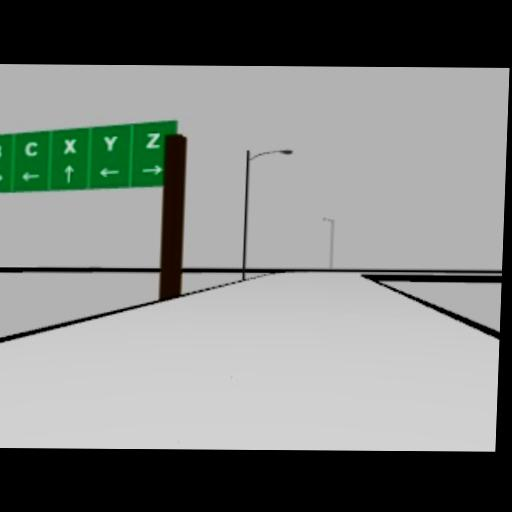B: (0, 143, 1, 158)
C: (24, 141, 39, 157)
Left: (98, 168, 119, 178), (21, 172, 40, 182)
Right: (140, 164, 161, 174), (0, 172, 4, 183)
Straight: (62, 164, 73, 184)
X: (63, 139, 76, 155)
Y: (100, 135, 117, 151)
Z: (145, 132, 161, 148)
